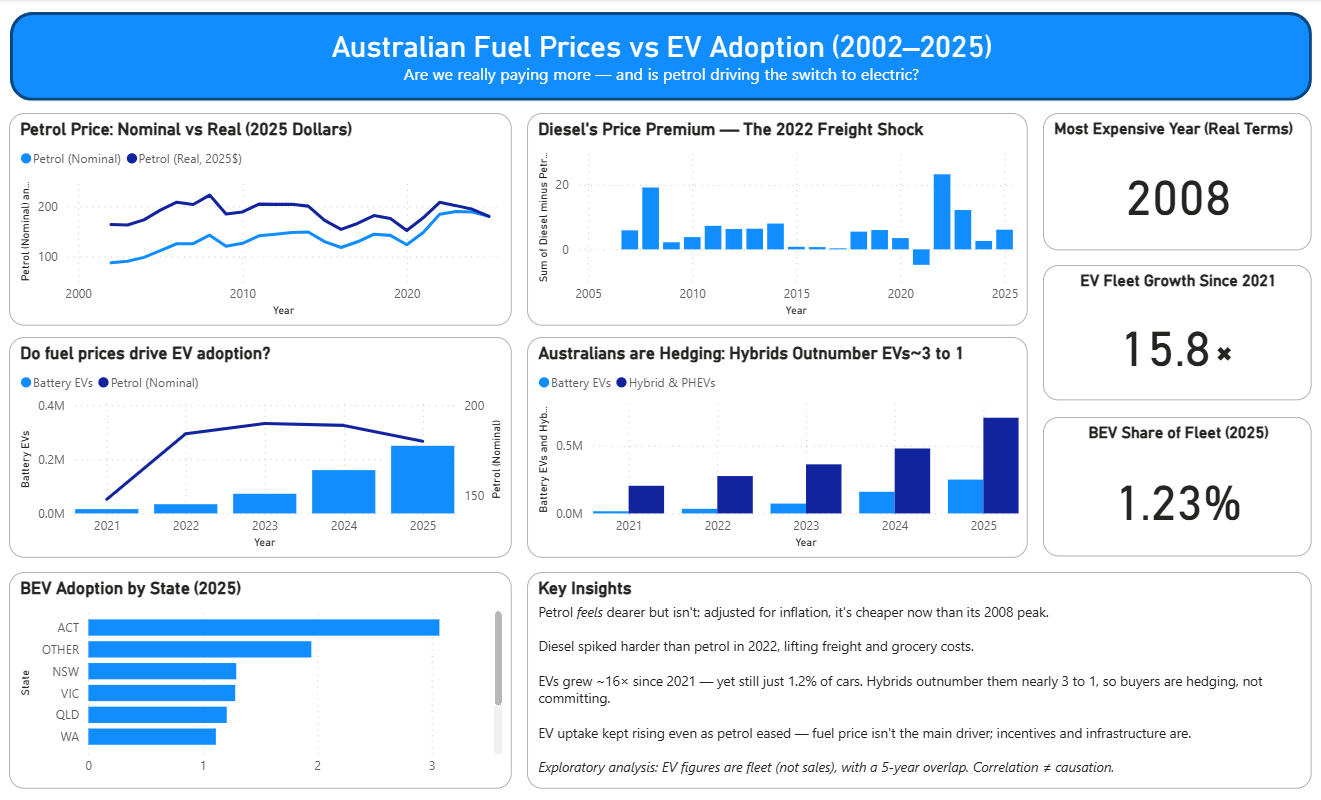

What the dashboard file says about the page in this screenshot:
{"tool":"powerbi","page":{"name":"Page 1","canvas":[1300,790],"ordinal":0},"visuals":[{"type":"shape","box":[9.5,12.7,1279.4,87.3],"z":0},{"type":"textbox","box":[0,24.4,1300,105.1],"z":1000},{"type":"lineChart","title":"Petrol Price: Nominal vs Real (2025 Dollars)","fields":{"Category":["fuel_ev_combined.Year"],"Y":["Sum(fuel_ev_combined.Petrol_price_cpl)","Sum(fuel_ev_combined.Petrol Real 2025)"]},"box":[9,111.5,493.6,209],"z":2000},{"type":"clusteredColumnChart","title":"Diesel''s Price Premium — The 2022 Freight Shock","fields":{"Category":["fuel_ev_combined.Year"],"Y":["Sum(fuel_ev_combined.Diesel minus Petrol)"]},"box":[517.9,111.5,492.3,209],"z":3000},{"type":"card","title":"Most Expensive Year (Real Terms)","fields":{"Values":["fuel_ev_combined.Real Price Peak Year"]},"box":[1024.4,111.5,264.1,134.6],"z":4000},{"type":"lineClusteredColumnComboChart","title":"Do fuel prices drive EV adoption?","fields":{"Category":["fuel_ev_combined.Year"],"Y2":["Sum(fuel_ev_combined.Petrol_price_cpl)"],"Y":["Sum(fuel_ev_combined.BEV)"]},"box":[9,332.1,493.6,216.7],"z":5000},{"type":"clusteredColumnChart","title":"Australians are Hedging: Hybrids Outnumber EVs~3 to 1","fields":{"Y":["Sum(fuel_ev_combined.BEV)","Sum(fuel_ev_combined.Hybrid_PHEV)"],"Category":["fuel_ev_combined.Year"]},"box":[517.9,332.1,492.3,216.7],"z":6000},{"type":"card","title":"BEV Share of Fleet (2025)","fields":{"Values":["fuel_ev_combined.BEV Share 2025"]},"box":[1024.4,410.3,264.1,137.2],"z":7000},{"type":"clusteredBarChart","title":"BEV Adoption by State (2025)","fields":{"Category":["ev_by_state.State"],"Y":["Sum(ev_by_state.BEV_share_pct_2025)"]},"box":[9,562.8,493.6,212.8],"z":8000},{"type":"card","title":"EV Fleet Growth Since 2021","fields":{"Values":["fuel_ev_combined.BEV Growth Multiple"]},"box":[1024.4,261.5,264.1,133.3],"z":9000},{"type":"textbox","title":"Key Insights","box":[517.9,562.8,770.5,212.8],"z":9001}]}

Visuals, with their boxes in screenshot pixels (x1, y1, x2, y2), scaled from the page's 1300x790 canvas onto the 1321x800 screenshot:
shape: (10, 13, 1310, 101)
textbox: (0, 25, 1320, 131)
"Petrol Price: Nominal vs Real (2025 Dollars)" lineChart: (9, 113, 511, 325)
"Diesel''s Price Premium — The 2022 Freight Shock" clusteredColumnChart: (526, 113, 1027, 325)
"Most Expensive Year (Real Terms)" card: (1041, 113, 1309, 249)
"Do fuel prices drive EV adoption?" lineClusteredColumnComboChart: (9, 336, 511, 556)
"Australians are Hedging: Hybrids Outnumber EVs~3 to 1" clusteredColumnChart: (526, 336, 1027, 556)
"BEV Share of Fleet (2025)" card: (1041, 415, 1309, 554)
"BEV Adoption by State (2025)" clusteredBarChart: (9, 570, 511, 785)
"EV Fleet Growth Since 2021" card: (1041, 265, 1309, 400)
"Key Insights" textbox: (526, 570, 1309, 785)
